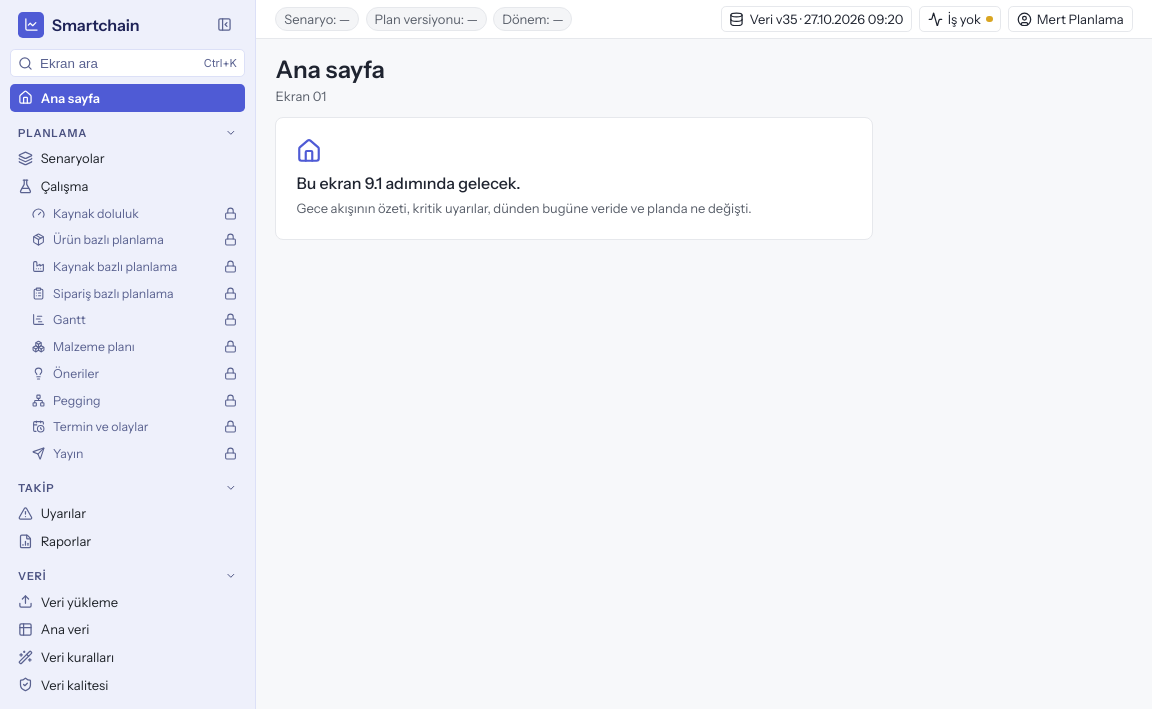
Test: kullanıcı menüsü: şifre değiştir ve çıkış › çıkış: sunucuda oturum kapanır, giriş sayfası ve bilgi
Click the button with aria-label "Kullanıcı menüsü: Mert Planlama" at (1070, 19), box [1008, 6, 1132, 32]
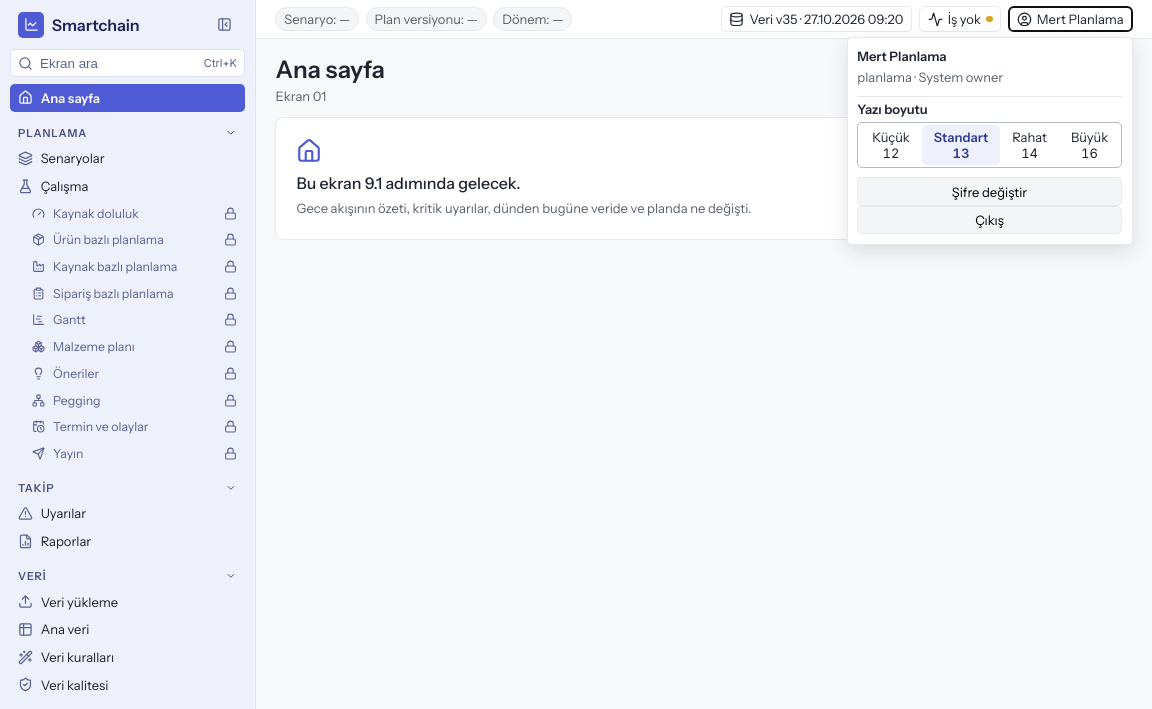
Click the button "Çıkış" at (990, 220), box [857, 206, 1122, 234]
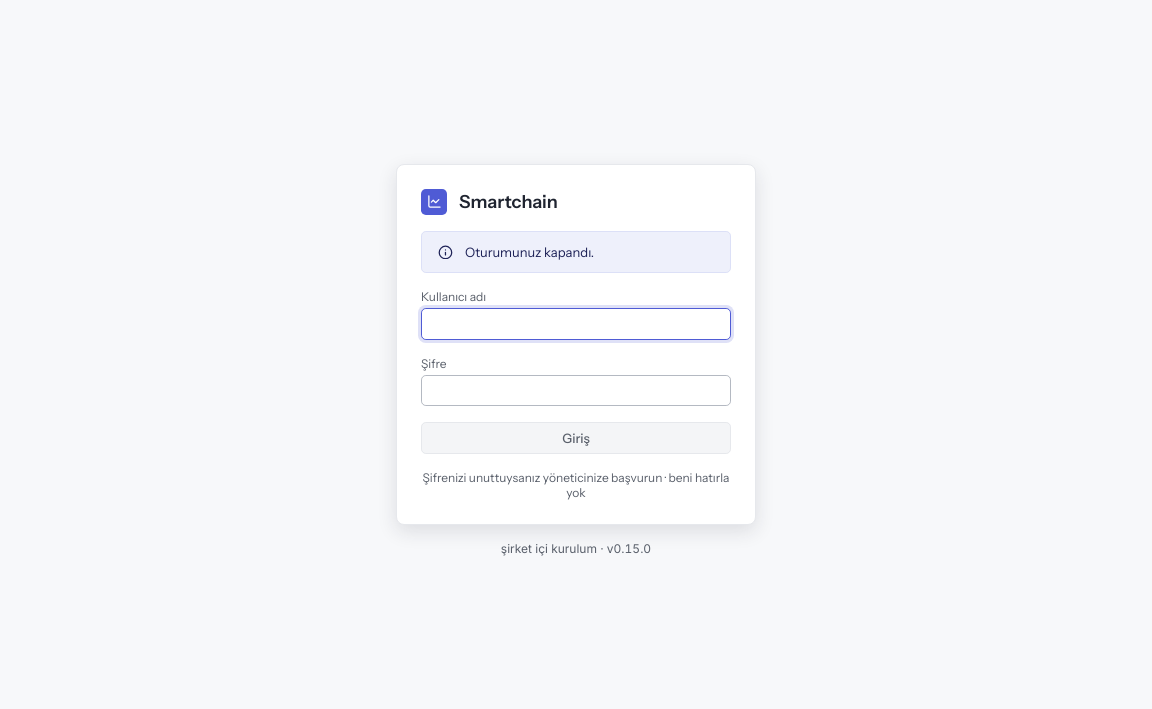
Expected: the form "Giriş" is shown, [396, 164, 756, 526]
Expected: the message reads "Oturumunuz kapandı.", [465, 244, 594, 260]
